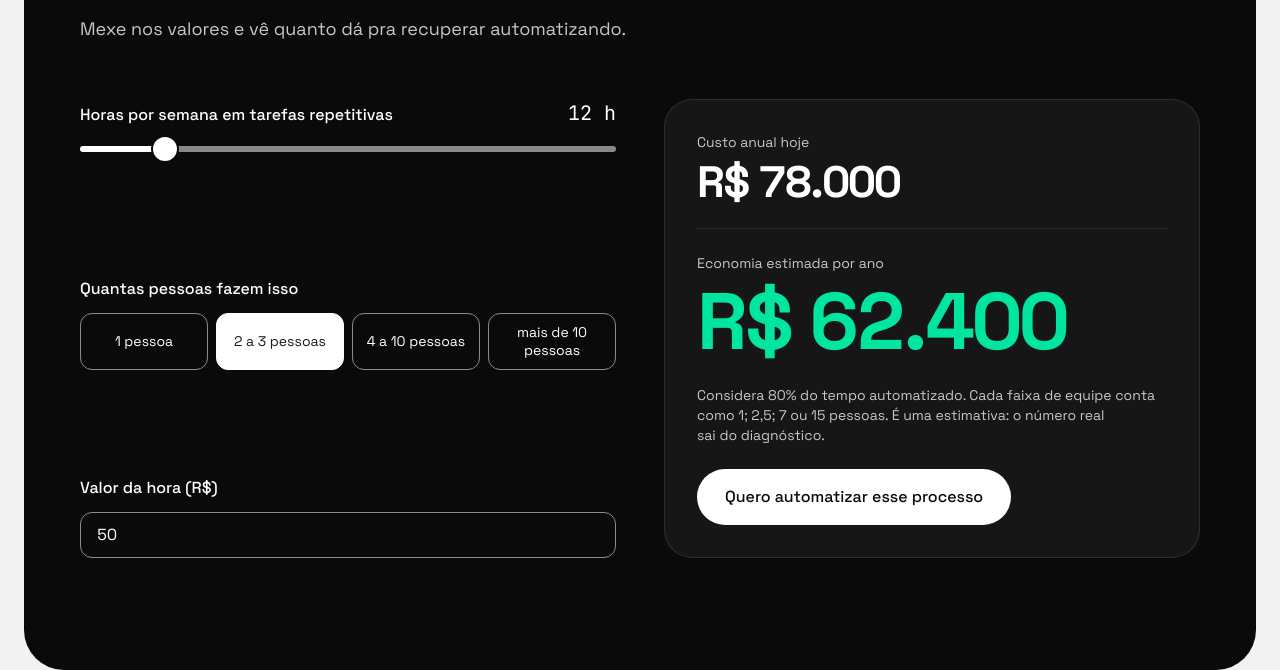
Scenario: RoiSimulator hourly rate feedback (X:M-18) › takes the note and the invalid mark away once the rate is fixed
The width and height of the screenshot is (1280, 670).
(page scrolled)
Replace the text in the number field labelled "Valor da hora (R$)" with "-5" at (348, 535), box [80,512,616,558]
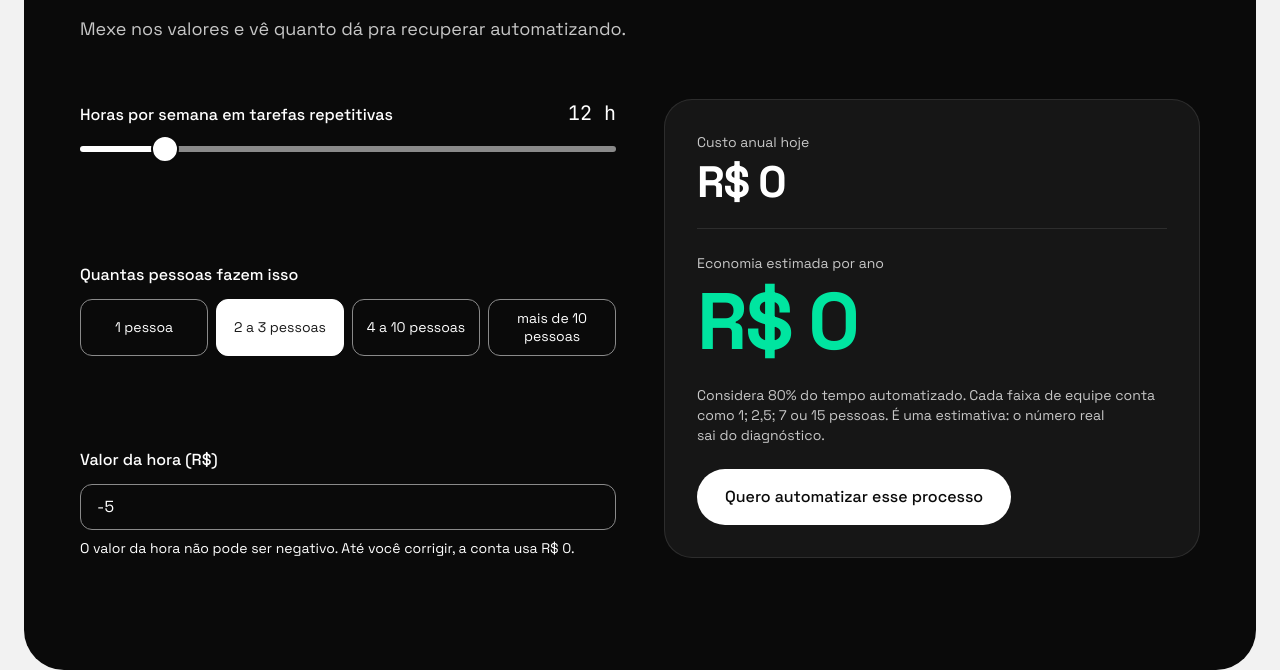
Replace the text in the number field labelled "Valor da hora (R$)" with "80" at (348, 507), box [80,484,616,530]
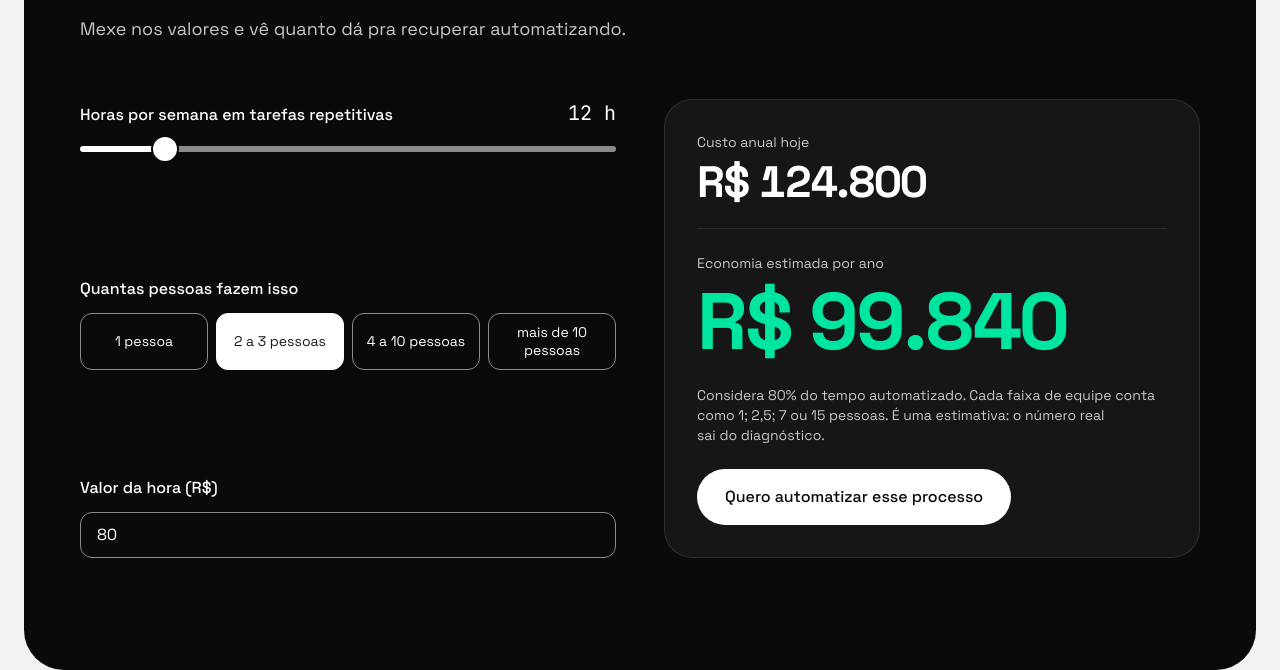
expect the text "O valor da hora não pode ser negativo. Até você corrigir, a conta usa R$ 0." is gone: met
